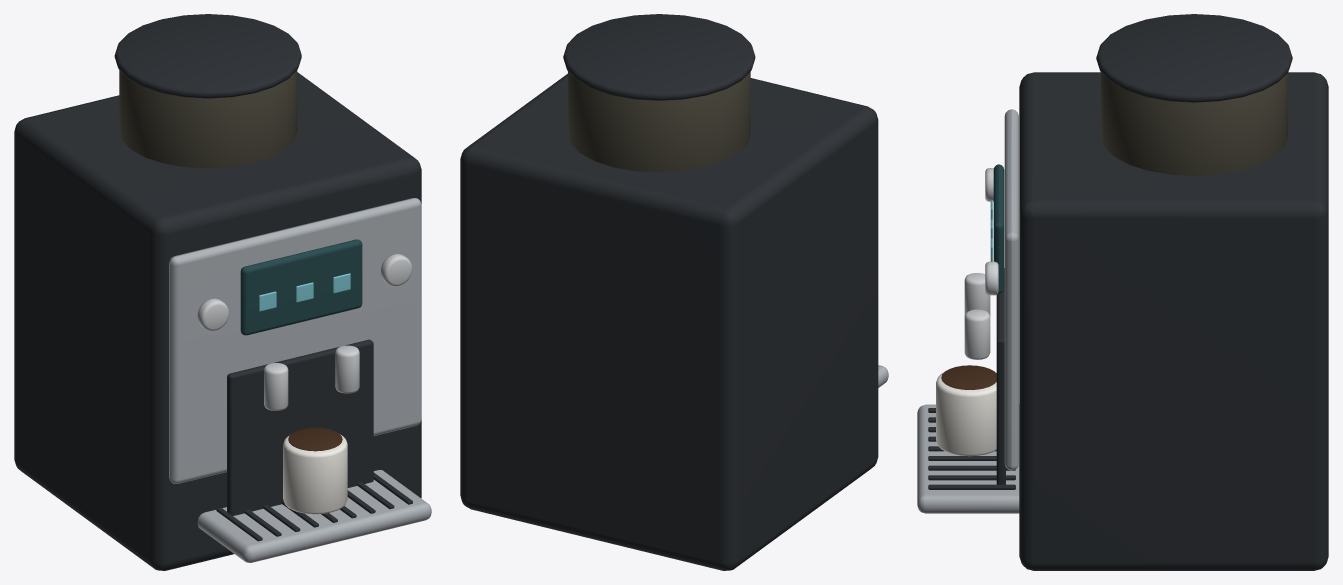
File: coffee-machine.glb
3 views of the same model, side by side, from view 1: azimuth 30°, elevation 25°; view 2: azimuth 150°, elevation 25°; view 3: azimuth 270°, elevation 25° (orthographic). The views are drawn at different scales.
Visible parts, largest first — view 1: Body, FrontPanel, BrewCavity, HopperLid, BeanHopper, DripTray, Touchscreen, Cup, Spout.001, Spout, CoffeeSurface, ControlKnob.001 (+1 smaller); view 2: Body, HopperLid, BeanHopper; view 3: Body, HopperLid, BeanHopper, FrontPanel, DripTray, Cup, BrewCavity, Touchscreen, Spout.001, CoffeeSurface, Spout, TrayGrille.008.
Boxes of the visible parts, box(x1,y1,x2,y2) form: Body: box(14, 72, 421, 570); FrontPanel: box(169, 198, 421, 483); BrewCavity: box(227, 339, 373, 515); HopperLid: box(114, 14, 301, 98); BeanHopper: box(119, 70, 297, 168); DripTray: box(197, 470, 431, 562); Touchscreen: box(240, 239, 362, 335); Cup: box(283, 434, 347, 514); Spout.001: box(335, 345, 359, 393); Spout: box(264, 363, 288, 410); CoffeeSurface: box(288, 427, 342, 451); ControlKnob.001: box(380, 254, 412, 286); Body: box(460, 73, 878, 570); HopperLid: box(563, 14, 755, 100); BeanHopper: box(568, 72, 750, 172); Body: box(1019, 72, 1328, 570); HopperLid: box(1096, 14, 1292, 102); BeanHopper: box(1101, 73, 1287, 175); FrontPanel: box(1004, 109, 1018, 470); DripTray: box(917, 404, 1019, 513); Cup: box(936, 373, 996, 456); BrewCavity: box(996, 268, 1005, 484); Touchscreen: box(993, 164, 1004, 293); Spout.001: box(964, 309, 990, 359); CoffeeSurface: box(941, 365, 996, 389); Spout: box(964, 273, 990, 315); TrayGrille.008: box(928, 484, 1015, 489).
Bounding box in the file's own units: 0.56 × 0.856 × 0.705.
